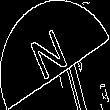N_SE: (32, 23, 78, 87)
